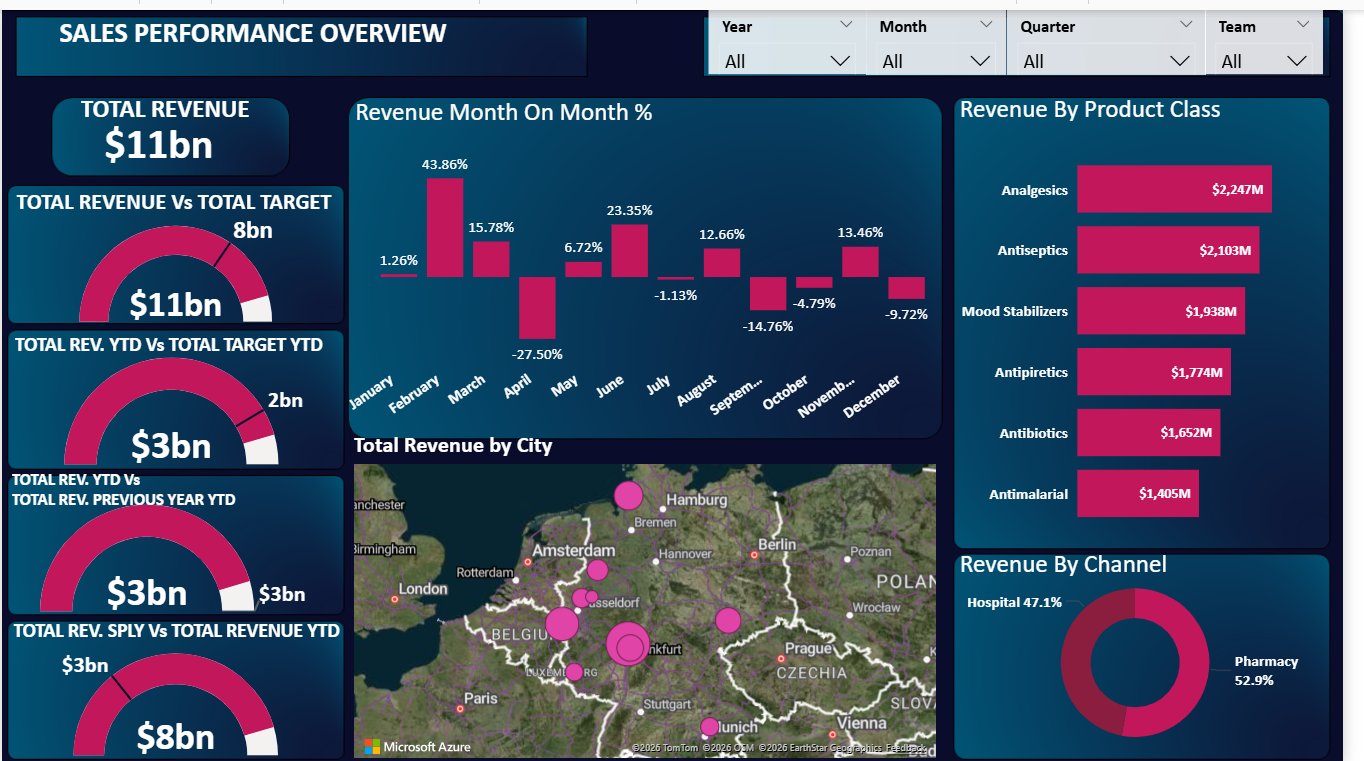

Layout of this report page (visuals, bound fields, positions):
{"tool":"powerbi","page":{"name":"Sales Performance ","canvas":[1280,720],"ordinal":0},"visuals":[{"type":"slicer","fields":{"Values":["Calendar.Date.Variation.Date Hierarchy.Year"]},"box":[674.2,0,150.5,61.5],"z":0},{"type":"slicer","fields":{"Values":["Calendar.Date.Variation.Date Hierarchy.Quarter"]},"box":[959,0,190.1,61.9],"z":1000},{"type":"slicer","fields":{"Values":["DimEmployees.Team"]},"box":[1149.4,0,112.6,61.5],"z":2000},{"type":"slicer","fields":{"Values":["Calendar.Date.Variation.Date Hierarchy.Month"]},"box":[825.1,0,133.9,61.9],"z":3000},{"type":"gauge","fields":{"Y":["All measures.Total Revenue"],"TargetValue":["All measures.Total Target"],"MaxValue":["All measures.Max Value"]},"box":[8.6,177.1,313.9,125.3],"z":4000},{"type":"gauge","fields":{"TargetValue":["All measures.Total_Revenue Previous_Year YTD"],"Y":["All measures.Total Revenue YTD"],"MaxValue":["All measures.Total_Revenue Previous_Year YTD"]},"box":[8.6,467,313.9,112.3],"z":5000},{"type":"gauge","fields":{"Y":["All measures.Total Revenue YTD"],"TargetValue":["All measures.Total Target YTD"],"MaxValue":["All measures.Max YTD"]},"box":[15.8,326.9,315.4,112.3],"z":6000},{"type":"clusteredColumnChart","fields":{"Y":["All measures.Revenue MoM%"],"Category":["Calendar.Date.Variation.Date Hierarchy.Month"]},"box":[324,112.3,580.3,290.9],"z":7000},{"type":"azureMap","fields":{"Category":["DimLocation.City"],"Size":["All measures.Total Revenue"]},"box":[331.2,403.2,565.9,316.8],"z":8000},{"type":"donutChart","fields":{"Y":["All measures.Total Revenue"],"Category":["Channels.Channel"]},"box":[897.1,525.6,370.1,194.4],"z":9000},{"type":"clusteredBarChart","fields":{"Category":["DimProducts.ProductClass"],"Y":["All measures.Total Revenue"]},"box":[910.1,112.3,370.1,401.8],"z":10000},{"type":"card","fields":{"Values":["All measures.Total Revenue"]},"box":[70.6,86.4,158.4,77.8],"z":11000},{"type":"textbox","box":[0,0,479.5,46.1],"z":12000},{"type":"textbox","box":[70.6,74,204.5,43.2],"z":13000},{"type":"textbox","box":[333,78,324,43.2],"z":14000},{"type":"textbox","box":[909.8,508,221.2,39],"z":15000},{"type":"textbox","box":[910.1,74,276.5,40.3],"z":16000},{"type":"gauge","fields":{"Y":["All measures.Total Revenue SPLY"],"TargetValue":["All measures.Total Revenue YTD"],"MaxValue":["All measures.Max Value SPLY"]},"box":[8.6,594,313.9,122.4],"z":17000},{"type":"textbox","box":[8.6,164.2,324,40.3],"z":18000},{"type":"textbox","box":[7.2,302.4,325.4,36],"z":19000},{"type":"textbox","box":[4.3,432,319.7,56.2],"z":20000},{"type":"textbox","box":[5.8,576,325.4,36],"z":21000}]}

Visuals, with their boxes in screenshot pixels (x1, y1, x2, y2), scaled from the page's 1280x720 canvas onto the 1364x761 screenshot:
slicer - Calendar.Date.Variation.Date Hierarchy.Year: left=718, top=0, right=879, bottom=65
slicer - Calendar.Date.Variation.Date Hierarchy.Quarter: left=1022, top=0, right=1225, bottom=65
slicer - DimEmployees.Team: left=1225, top=0, right=1345, bottom=65
slicer - Calendar.Date.Variation.Date Hierarchy.Month: left=879, top=0, right=1022, bottom=65
gauge - All measures.Total Revenue x All measures.Total Target: left=9, top=187, right=344, bottom=320
gauge - All measures.Total_Revenue Previous_Year YTD x All measures.Total Revenue YTD: left=9, top=494, right=344, bottom=612
gauge - All measures.Total Revenue YTD x All measures.Total Target YTD: left=17, top=346, right=353, bottom=464
clusteredColumnChart - All measures.Revenue MoM% x Calendar.Date.Variation.Date Hierarchy.Month: left=345, top=119, right=964, bottom=426
azureMap - DimLocation.City x All measures.Total Revenue: left=353, top=426, right=956, bottom=760
donutChart - All measures.Total Revenue x Channels.Channel: left=956, top=556, right=1350, bottom=760
clusteredBarChart - DimProducts.ProductClass x All measures.Total Revenue: left=970, top=119, right=1363, bottom=543
card - All measures.Total Revenue: left=75, top=91, right=244, bottom=174
textbox: left=0, top=0, right=511, bottom=49
textbox: left=75, top=78, right=293, bottom=124
textbox: left=355, top=82, right=700, bottom=128
textbox: left=970, top=537, right=1205, bottom=578
textbox: left=970, top=78, right=1264, bottom=121
gauge - All measures.Total Revenue SPLY x All measures.Total Revenue YTD: left=9, top=628, right=344, bottom=757
textbox: left=9, top=174, right=354, bottom=216
textbox: left=8, top=320, right=354, bottom=358
textbox: left=5, top=457, right=345, bottom=516
textbox: left=6, top=609, right=353, bottom=647
